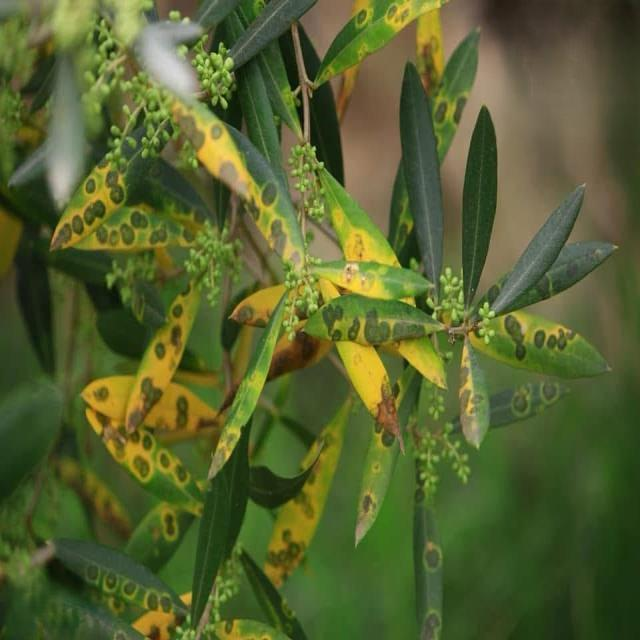OlivePeacockSpot: (208, 287, 298, 480), (263, 396, 352, 586), (51, 121, 170, 251), (86, 409, 205, 516), (312, 0, 448, 88), (123, 280, 200, 433), (48, 539, 189, 618), (229, 125, 306, 268), (472, 310, 610, 380), (302, 295, 440, 347), (70, 204, 199, 253), (412, 471, 440, 639), (310, 260, 432, 298), (489, 379, 564, 428), (459, 339, 490, 449)
